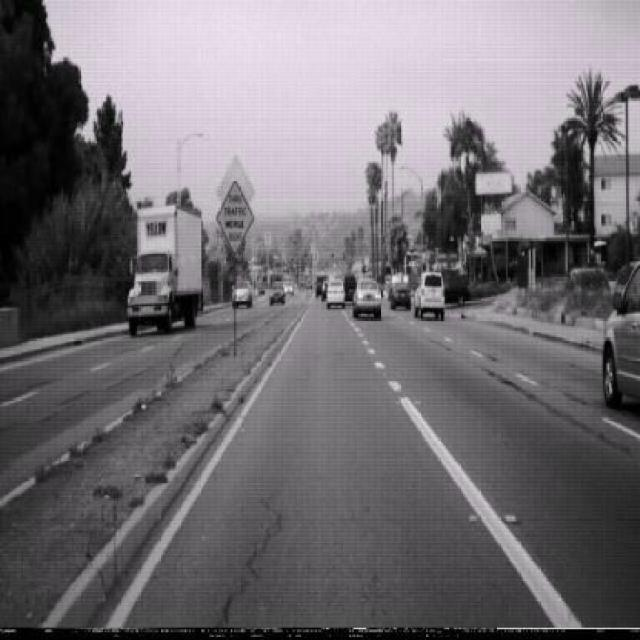thruMergeRight: (215, 182, 254, 258)
